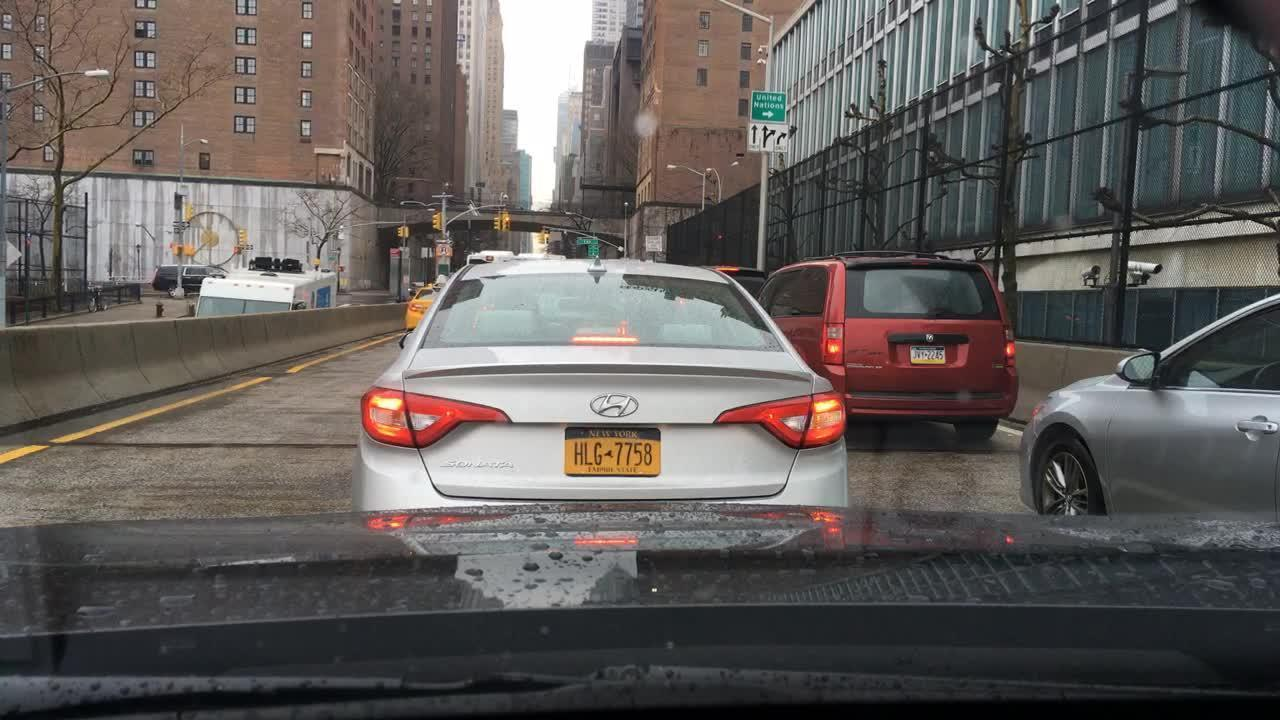Hyundai: (588, 387, 648, 425)
